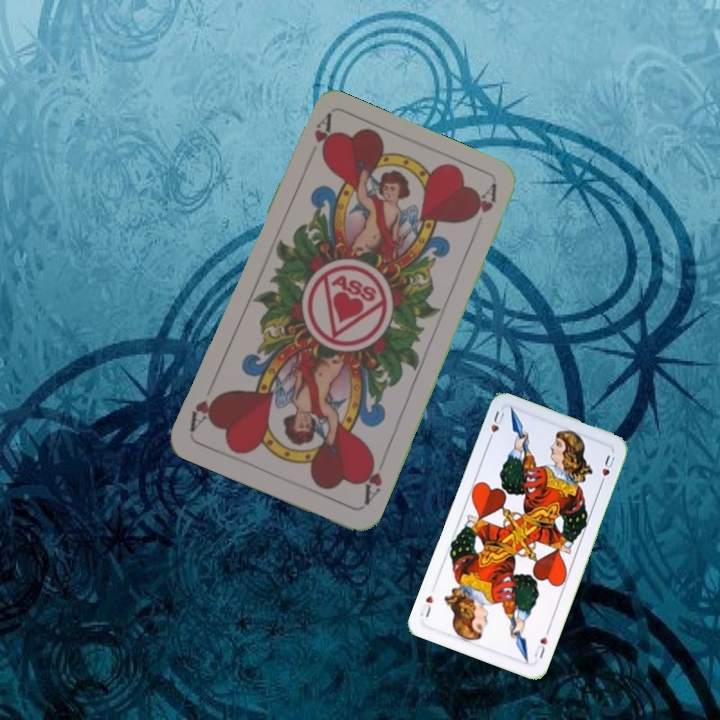HA: (358, 450, 385, 508), (310, 112, 335, 161)
HU: (484, 407, 507, 445), (530, 625, 552, 662)
